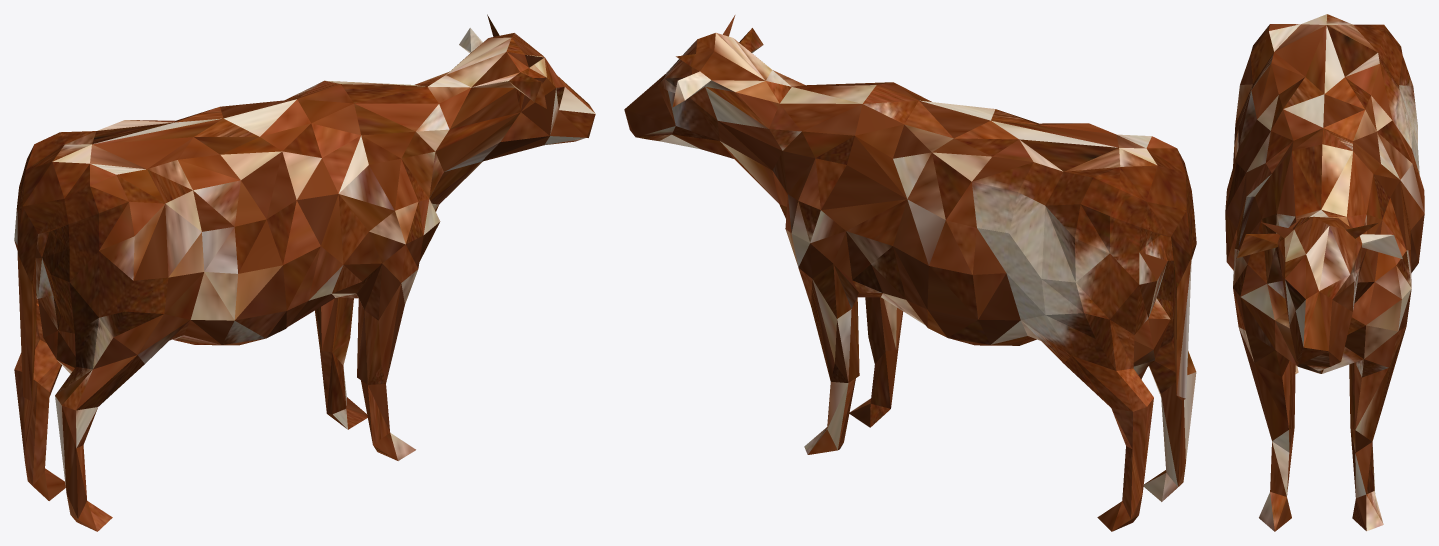
Rendered from cow.dae.
3 views of the same model, side by side, from view 1: azimuth 30°, elevation 25°; view 2: azimuth 150°, elevation 25°; view 3: azimuth 270°, elevation 25° (orthographic).
Visible parts, largest first — view 1: grp1; view 2: grp1; view 3: grp1.
Part boxes in pixels (left/top/right/bottom): grp1: left=14, top=14, right=595, bottom=531; grp1: left=624, top=15, right=1196, bottom=531; grp1: left=1225, top=14, right=1424, bottom=531.
Size of the model in its own units: 2.24 by 0.6735 by 1.39.
1 material, 1 textured.
